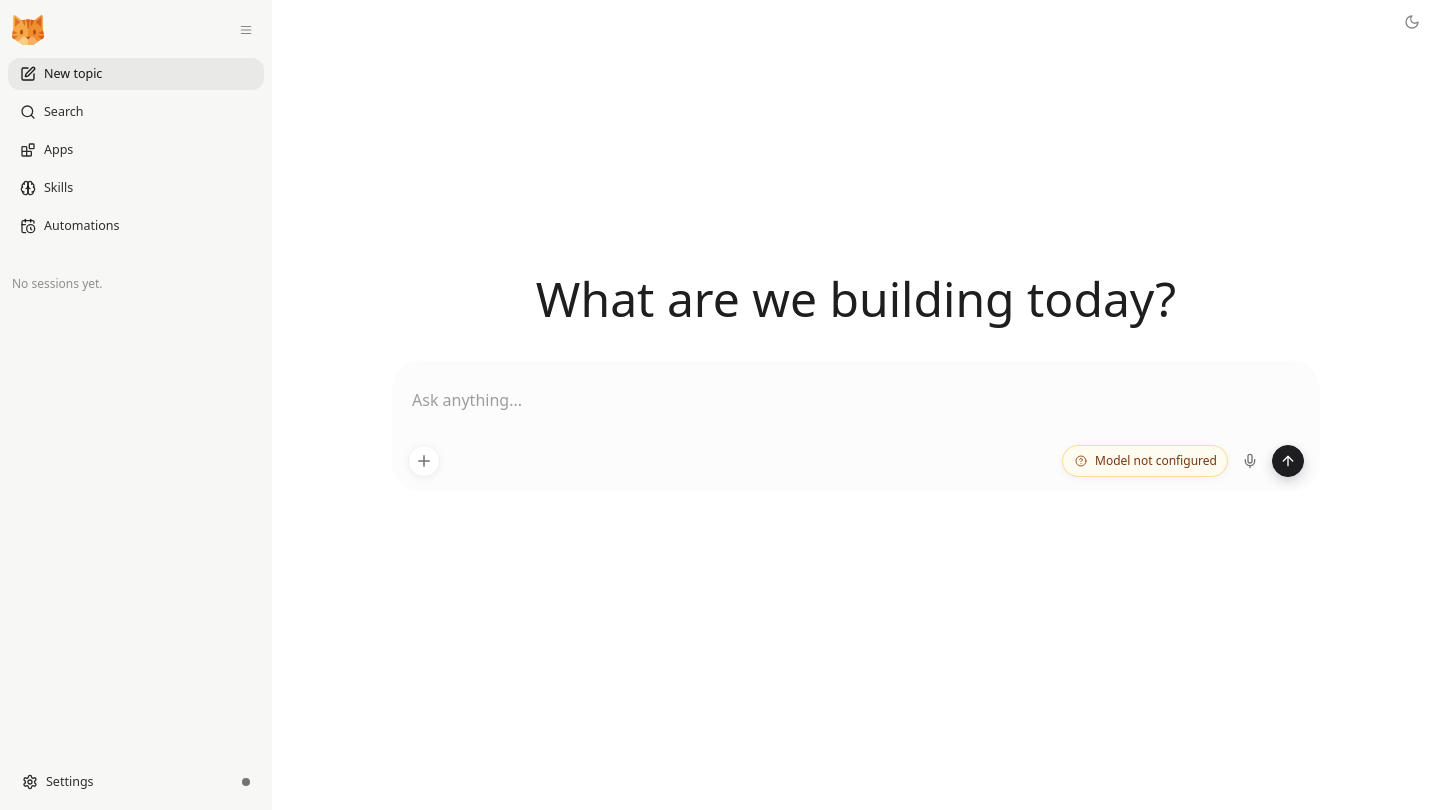
it: App layout › deletes a custom skill from its detail sheet
This screenshot has width=1440, height=810.
What coordinates should you click on to do the following:
click the button "Skills"
I would click on:
 (136, 188)
Its box is [8,172,264,204].
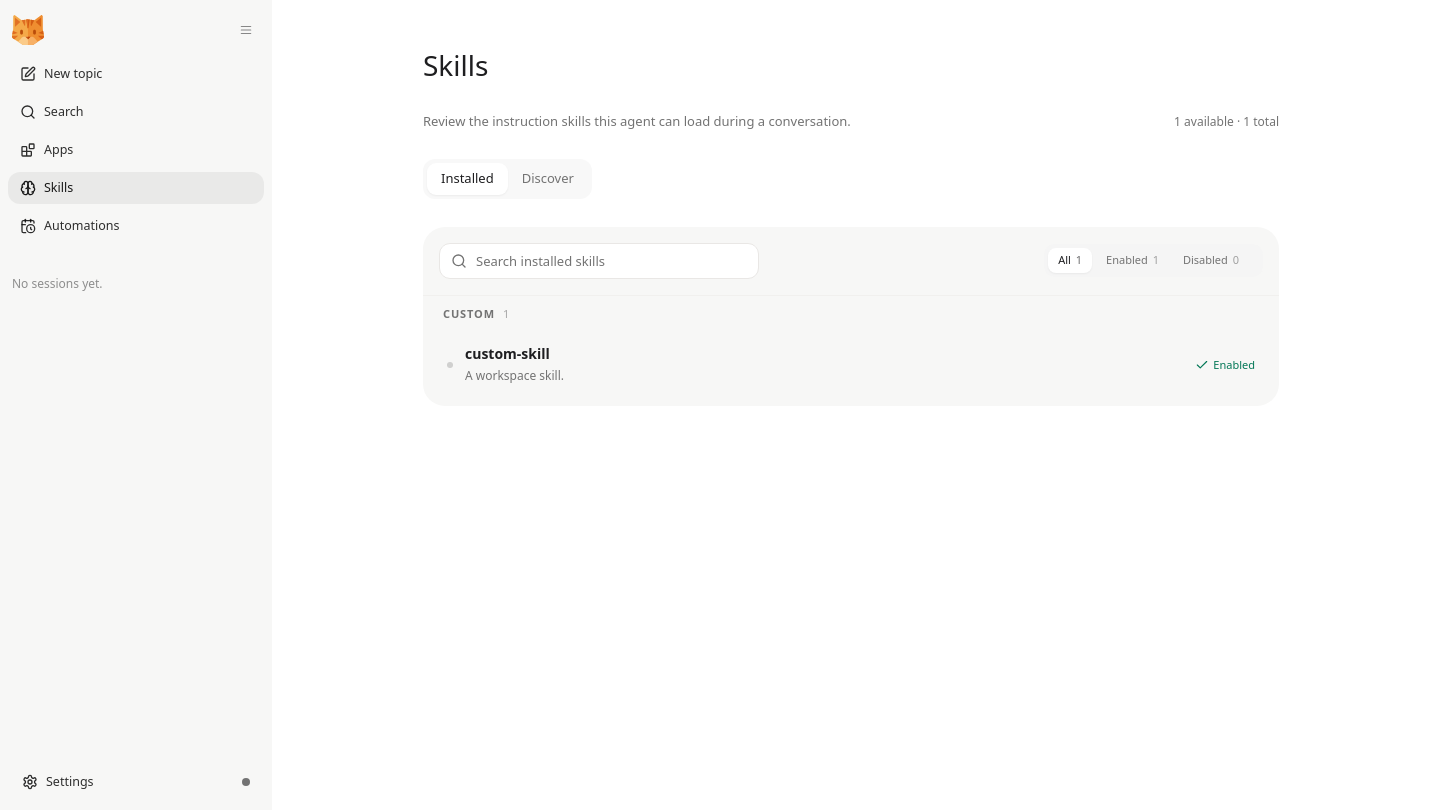
What coordinates should you click on to do the following:
click the button with aria-label "Open details for custom-skill"
I would click on:
 (507, 354)
Its box is [439,332,1263,398].
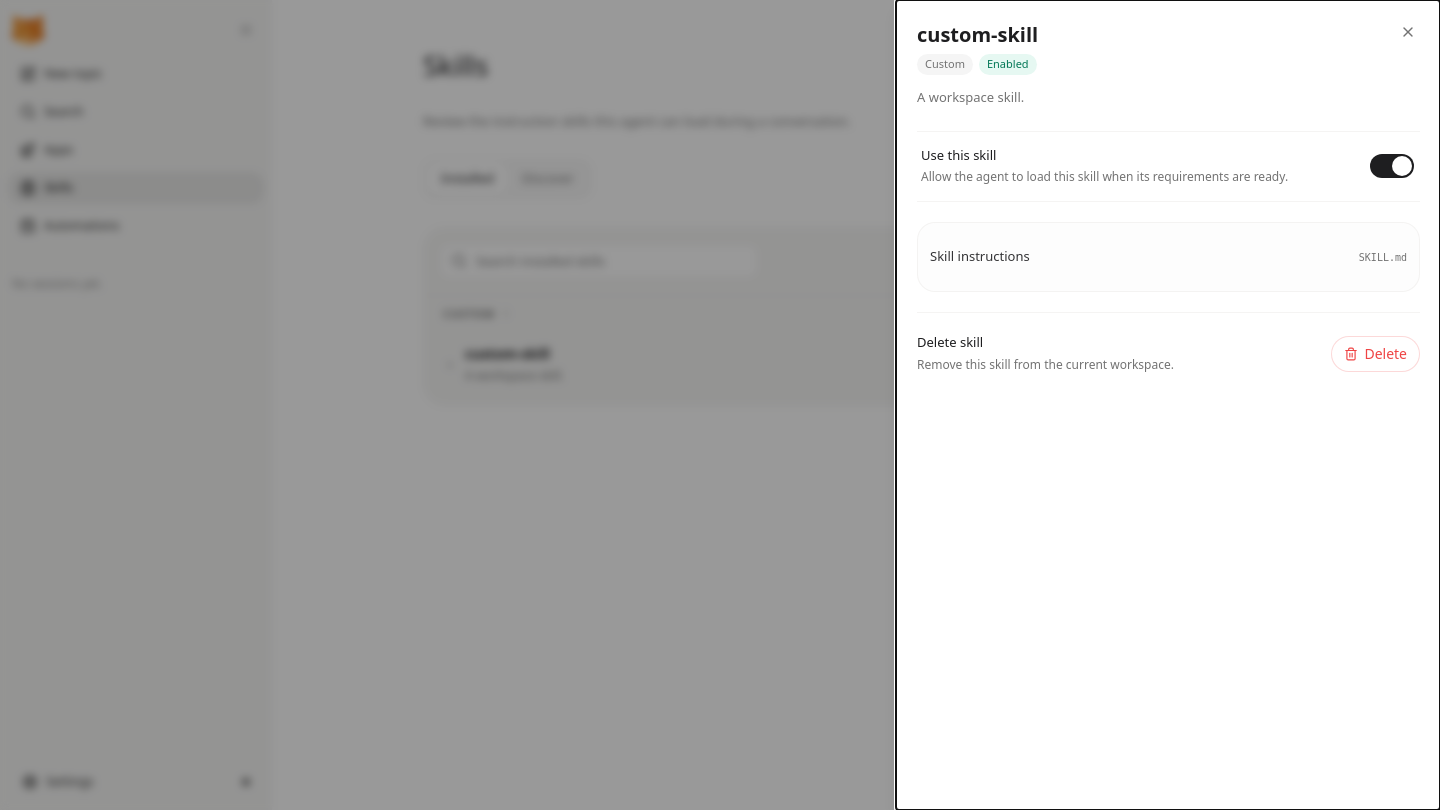
expect the heading "custom-skill" is shown: met, box [917,21,1038,48]
What coordinates should you click on to do the following:
click the button "Delete"
I would click on:
 (1376, 354)
Its box is [1331,336,1420,372].
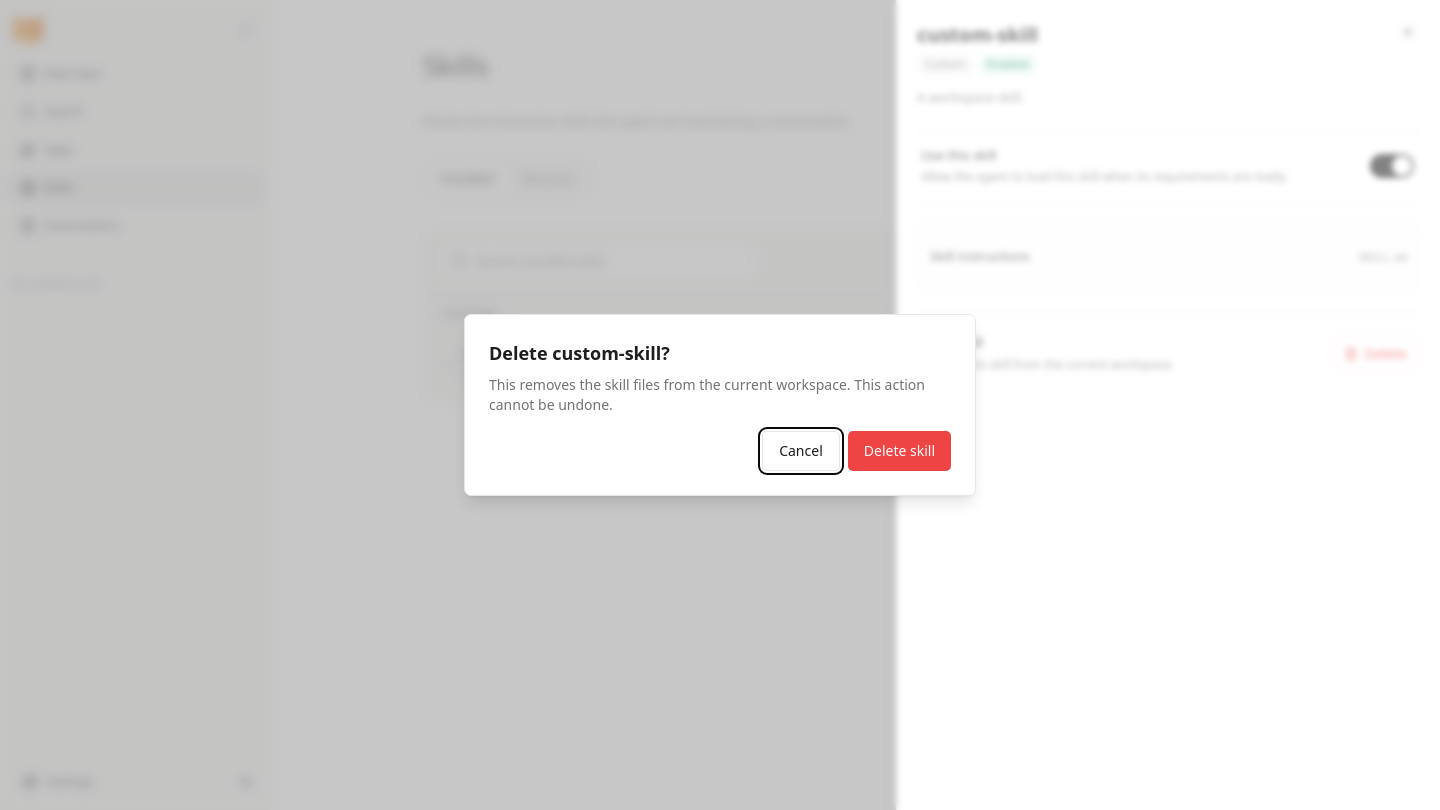
expect the heading "Delete custom-skill?" is shown: met, box [489,341,670,365]
What coordinates should you click on to do the following:
click the button "Delete skill"
I would click on:
 (899, 451)
Its box is [848,431,951,471].
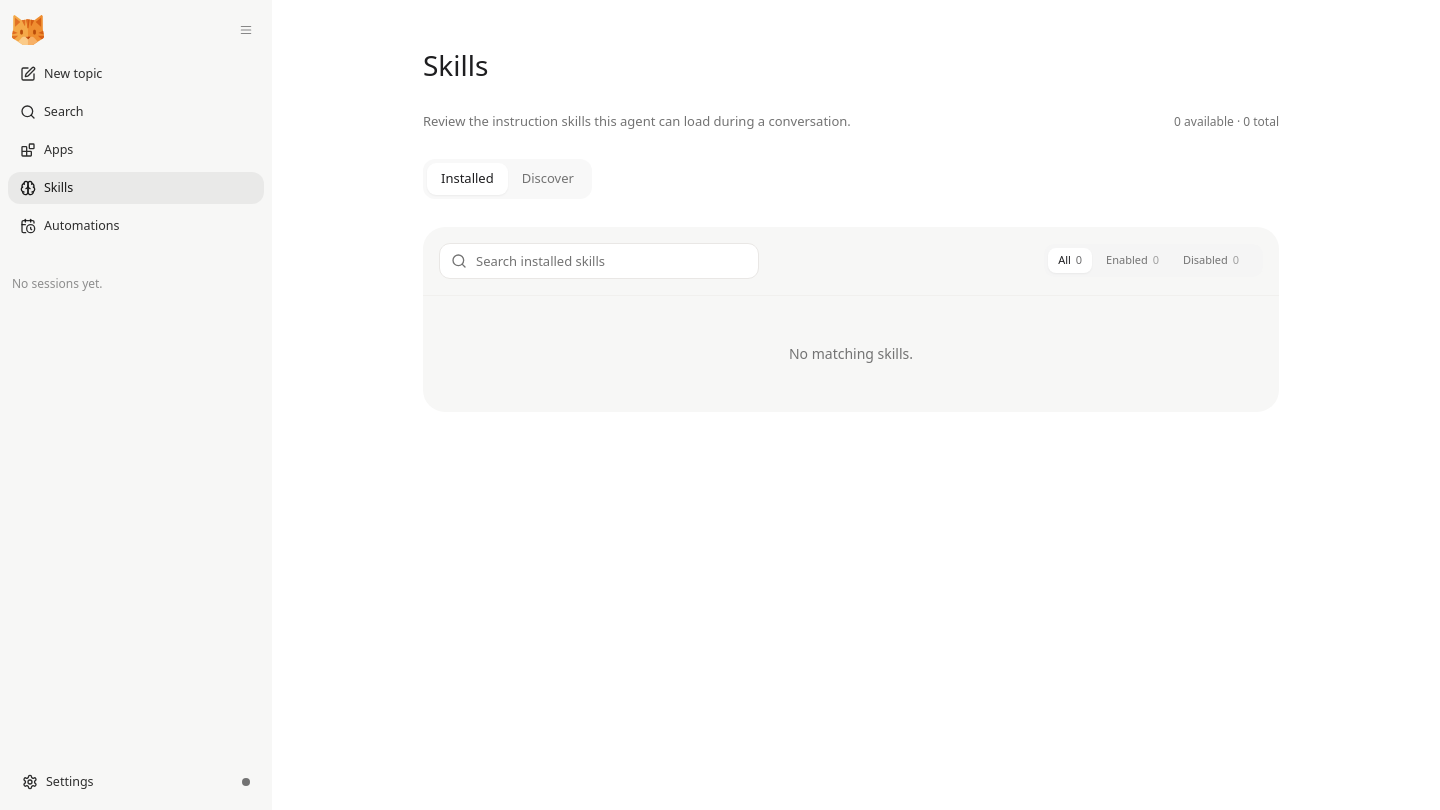
expect the text "No matching skills." is shown: met, box [789,344,913,362]
